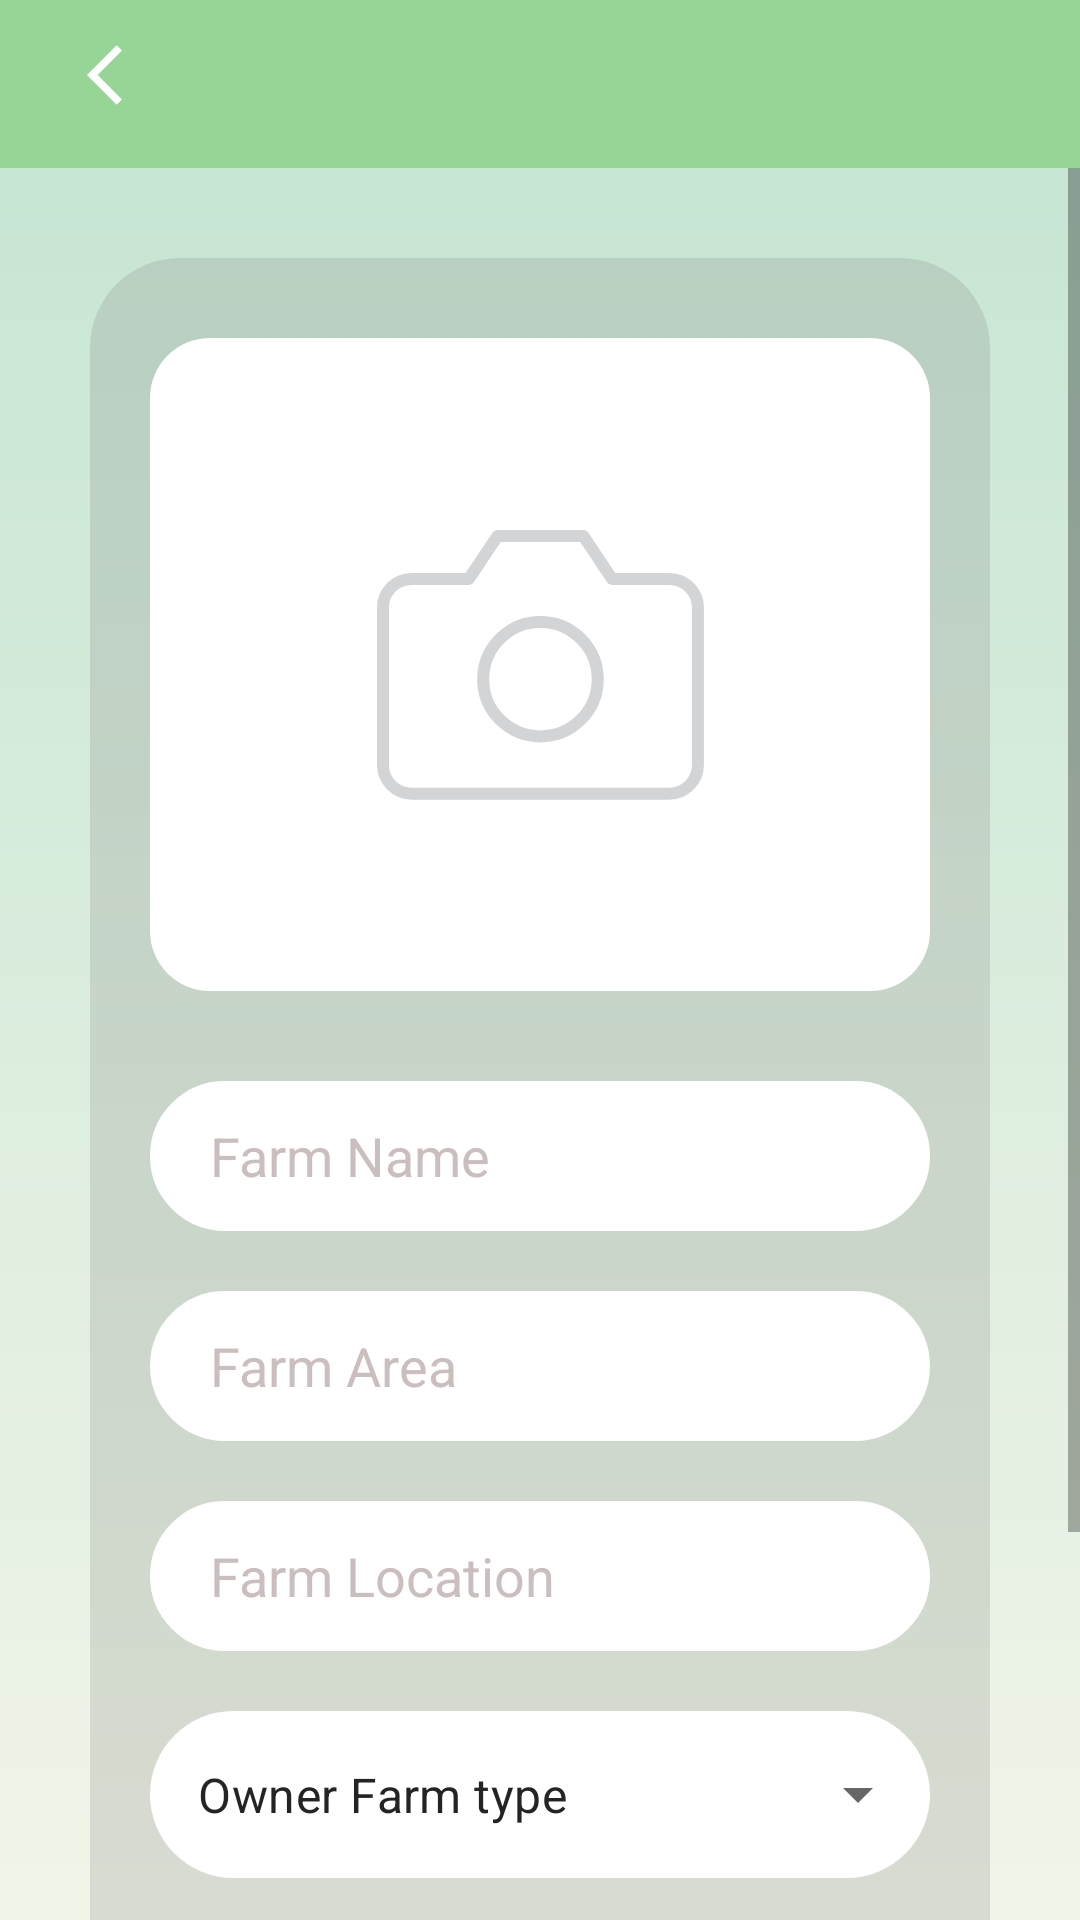

Screen size 1080×1920. Icon name, then its box in pixels as (x1, y1, x2, y2):
backbtn: (87, 45, 122, 105)
